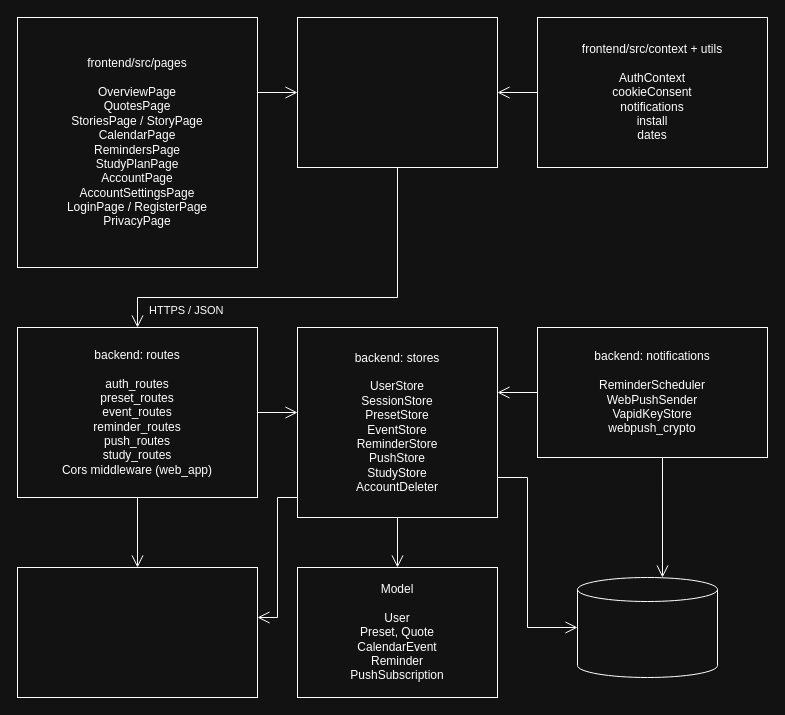
Some shapes in this 785 by 715 pixel diagram are drawn without their labels. Here are the shapes that lost their labels. From the top down, the centre of each, then its label:
At [397,92]: "frontend/src/api client auth presets events reminders push study".
At [137,632]: "backend: infrastructure Config RedisClient RateLimiter http helpers, crypto".
At [647,627]: "Redis".
